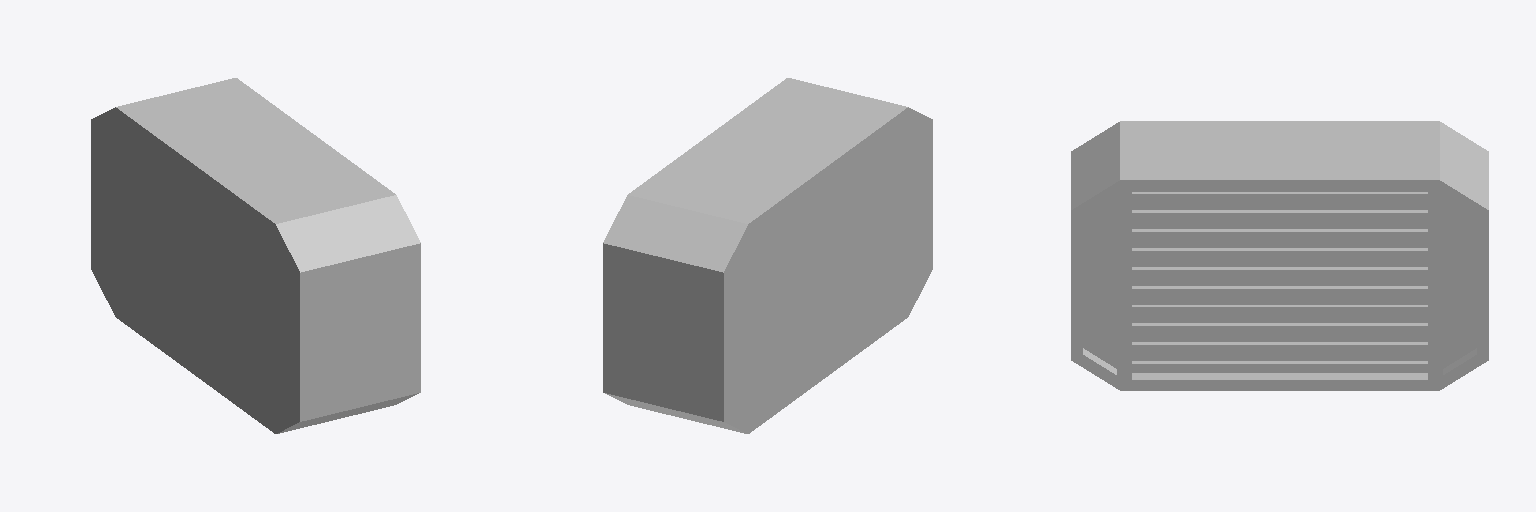
File: wallvent.obj
3 renders of one model, left to right at view 1: azimuth 30°, elevation 25°; view 2: azimuth 150°, elevation 25°; view 3: azimuth 270°, elevation 25°, orthographic.
Parts seen in each view (by area): view 1: octotoad1; view 2: octotoad1; view 3: octotoad1.
Boxes of the visible parts, box(x1,y1,x2,y2) form: octotoad1: box(91, 78, 420, 433); octotoad1: box(603, 78, 932, 433); octotoad1: box(1071, 121, 1488, 390).
Bounding box in the file's own units: 0.6667 × 1.11 × 2.